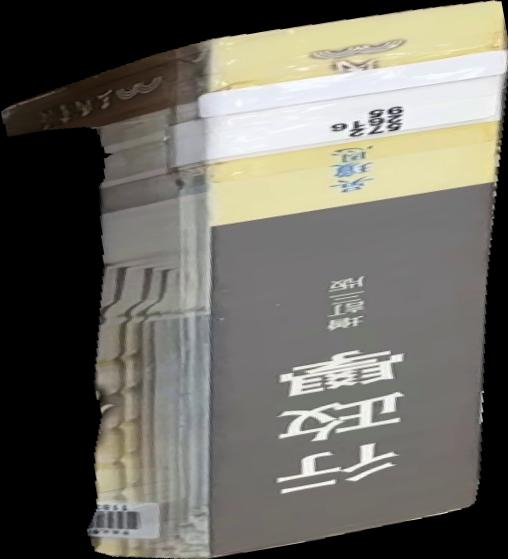reverse: (1, 1, 508, 559)
